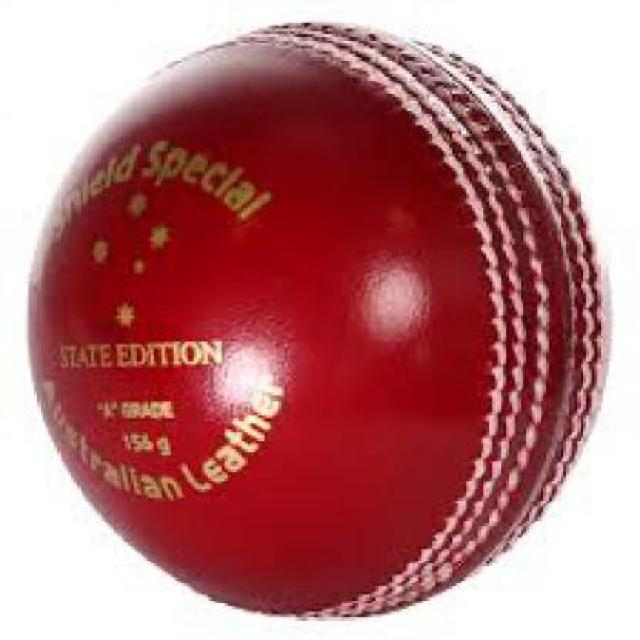ball: (16, 6, 626, 629)
